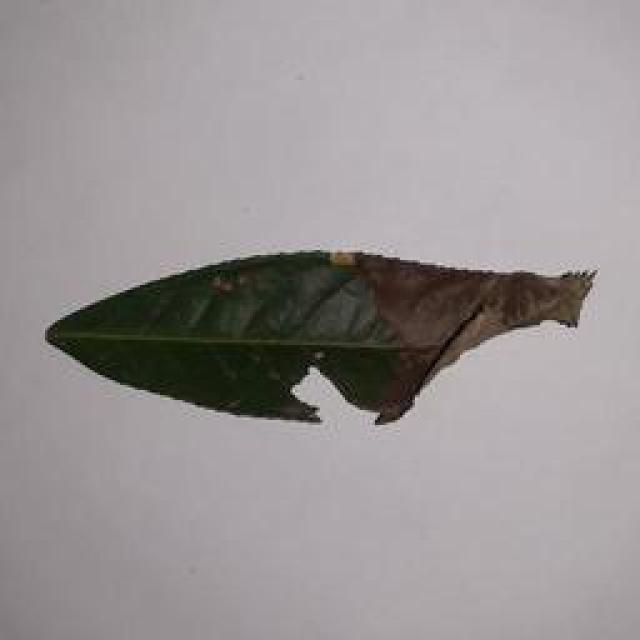Brown Blight: (45, 230, 599, 438)
